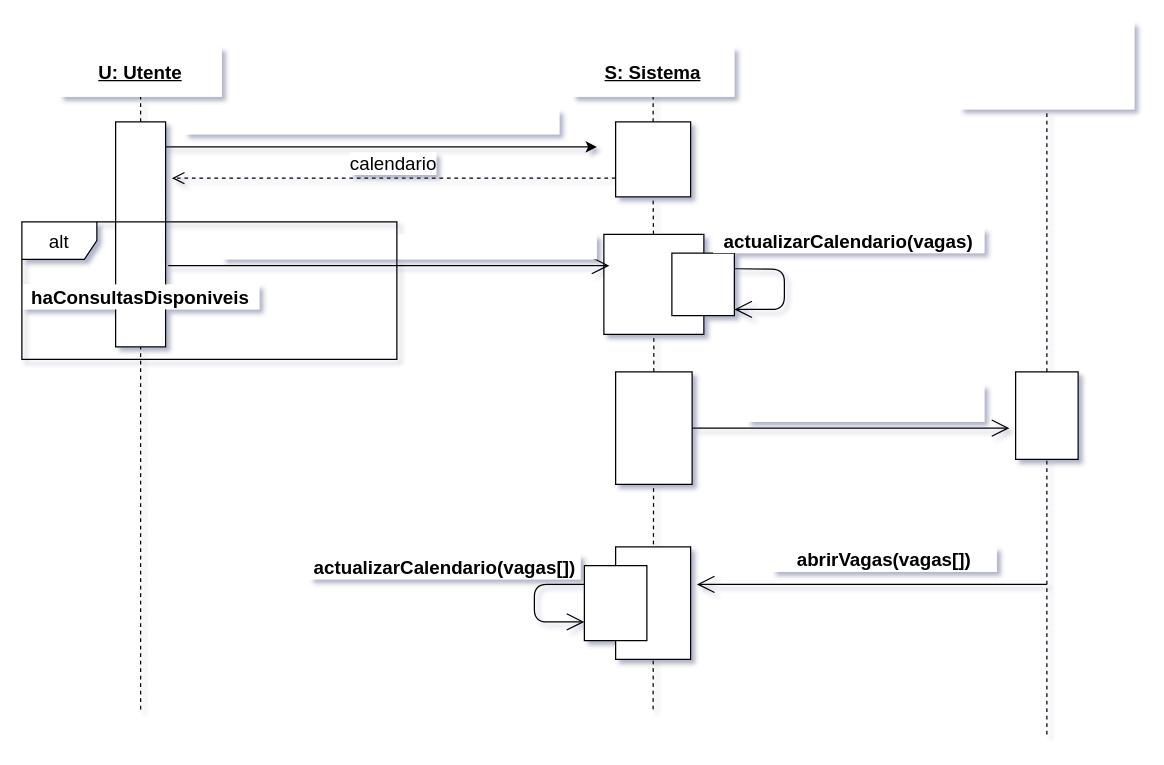
Some shapes in this 1164 by 765 pixel diagram are drawn without their labels. The shapes that lost their labels are listed below. From the top down, each one's centre as x and y in pixels, then its label:
At point 1046,65: "R:Responsavel Unidade de Consultas".
At point 371,121: "verCalendario(medico,especialidade)".
At point 408,246: "marcarConsulta(vaga,nUtente)".
At point 865,402: "notificarFaltaDeVagas (medico,especialidade)".
